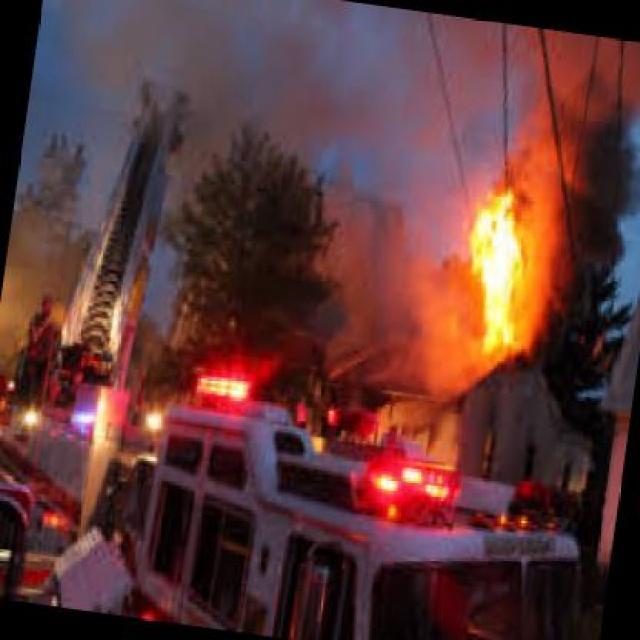Fire: (463, 196, 526, 360)
Smoke: (88, 28, 454, 360), (529, 36, 640, 228)
